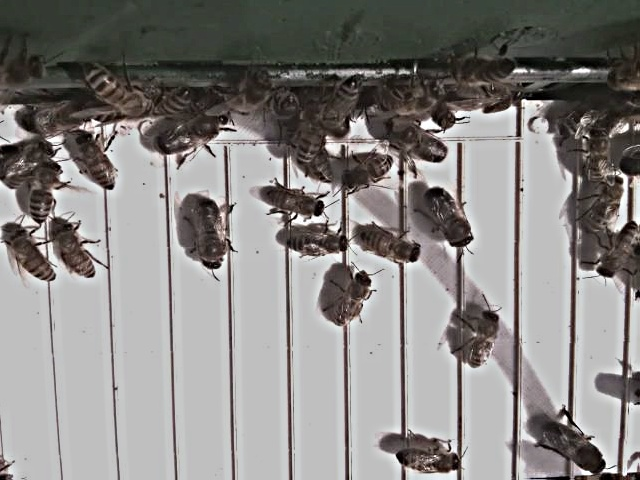Drone: (538, 419, 610, 477), (420, 185, 479, 252), (152, 112, 232, 158), (190, 197, 232, 274), (388, 119, 452, 169)
Worker: (8, 229, 57, 288), (356, 227, 423, 270), (58, 217, 100, 283), (594, 224, 640, 282), (466, 307, 507, 372), (334, 269, 376, 330), (26, 162, 64, 229), (81, 132, 120, 197), (390, 446, 467, 478), (584, 176, 624, 237), (263, 187, 332, 221), (342, 153, 397, 195), (284, 230, 350, 259), (295, 116, 327, 171)
